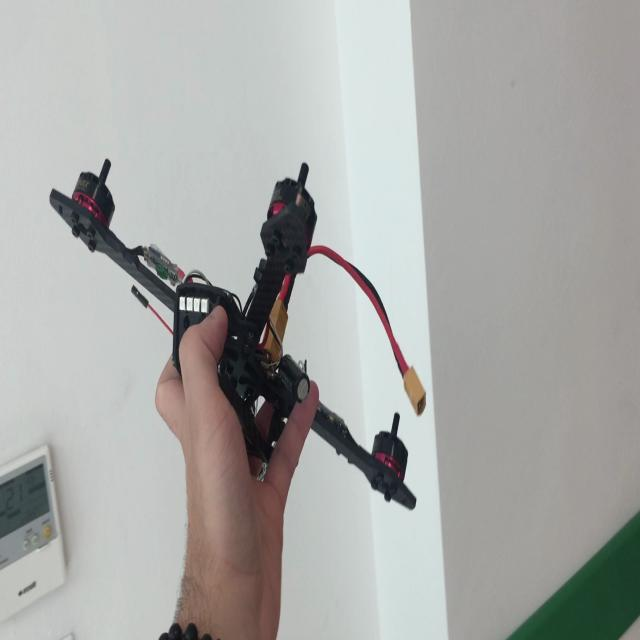drone: (34, 80, 429, 531)
